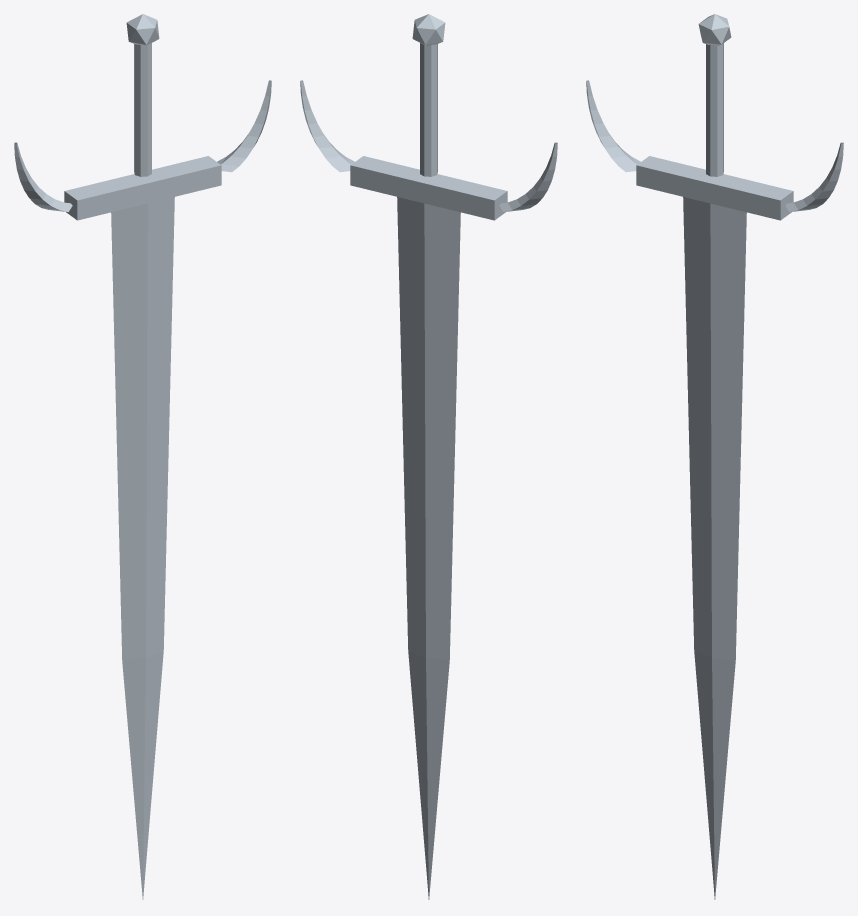
The model's file is ice_sword.glb.
3 views of the same model, side by side, from view 1: azimuth 30°, elevation 25°; view 2: azimuth 150°, elevation 25°; view 3: azimuth 330°, elevation 25° (orthographic).
Parts seen in each view (by area): view 1: IceSword; view 2: IceSword; view 3: IceSword.
Part boxes in pixels (box(x1,y1,x2,y2)): IceSword: box(14, 14, 271, 899); IceSword: box(300, 14, 557, 899); IceSword: box(586, 14, 843, 899).
Bounding box in the file's own units: 1.61 × 5.3 × 0.1701.
